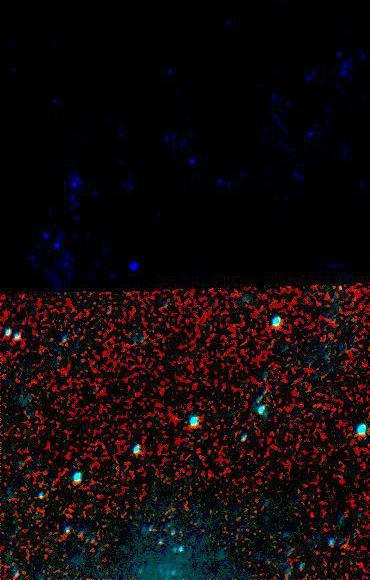star: (298, 502, 328, 532)
